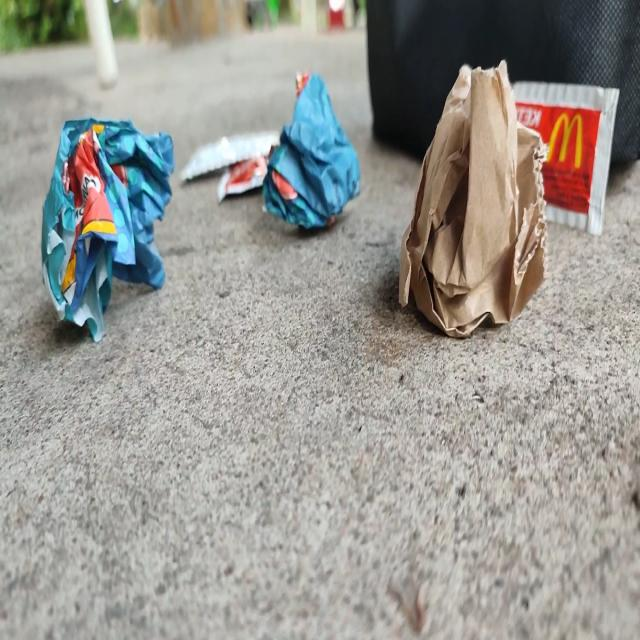paper: (394, 50, 550, 344), (37, 106, 175, 345), (262, 61, 368, 258)
